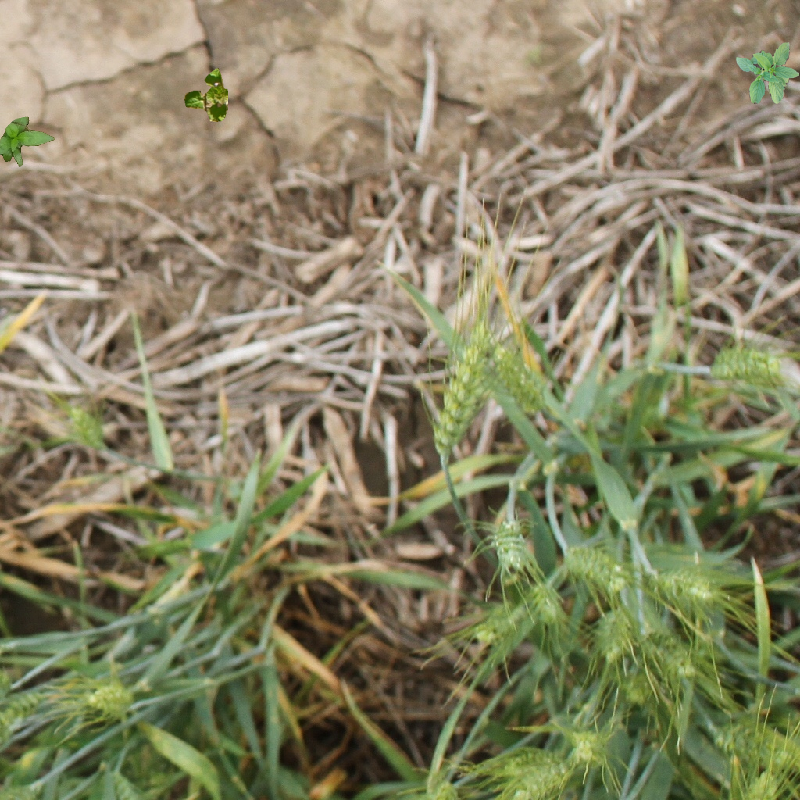spikelet: (430, 330, 499, 457), (480, 333, 549, 411), (707, 339, 797, 395), (712, 718, 800, 770), (496, 750, 575, 800), (638, 620, 698, 681), (560, 541, 629, 594), (487, 513, 531, 573), (591, 604, 635, 663), (61, 401, 111, 452), (469, 600, 524, 646), (656, 566, 718, 605), (83, 679, 137, 719), (726, 768, 782, 800), (524, 581, 563, 626), (569, 726, 610, 768), (104, 767, 151, 799)
weed: (1, 107, 59, 179), (736, 42, 799, 104), (184, 68, 228, 122)
